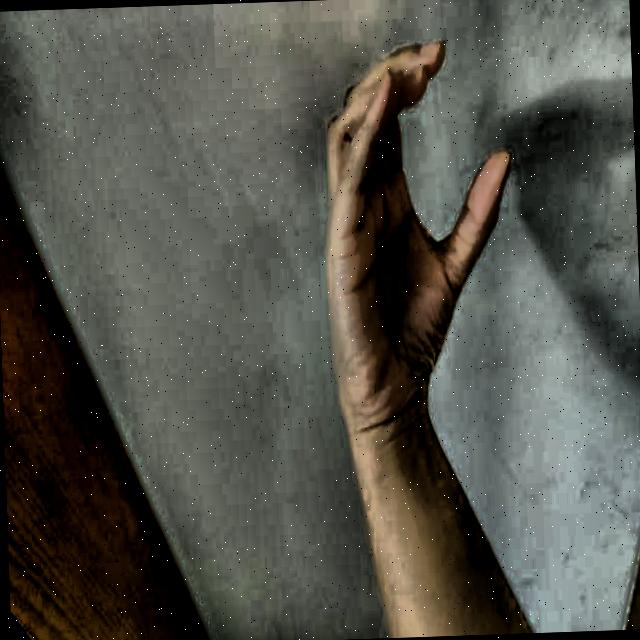A: (297, 14, 544, 463)
